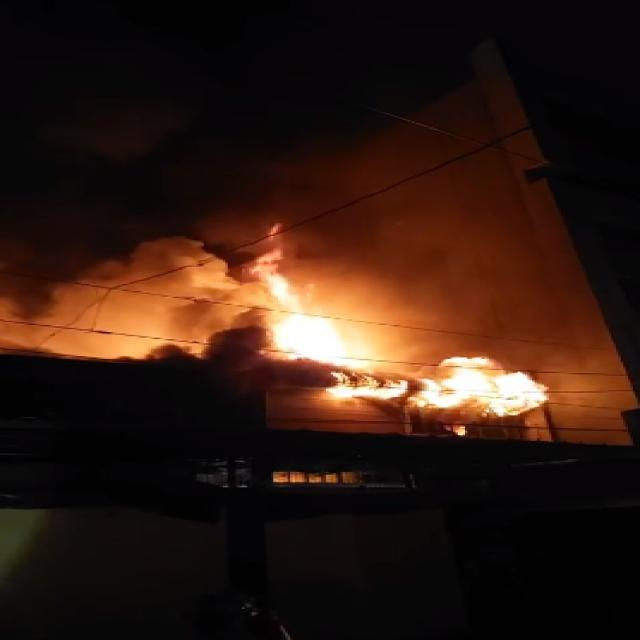Fire: (257, 269, 417, 402), (331, 352, 557, 418)
Smoke: (32, 232, 343, 394)
